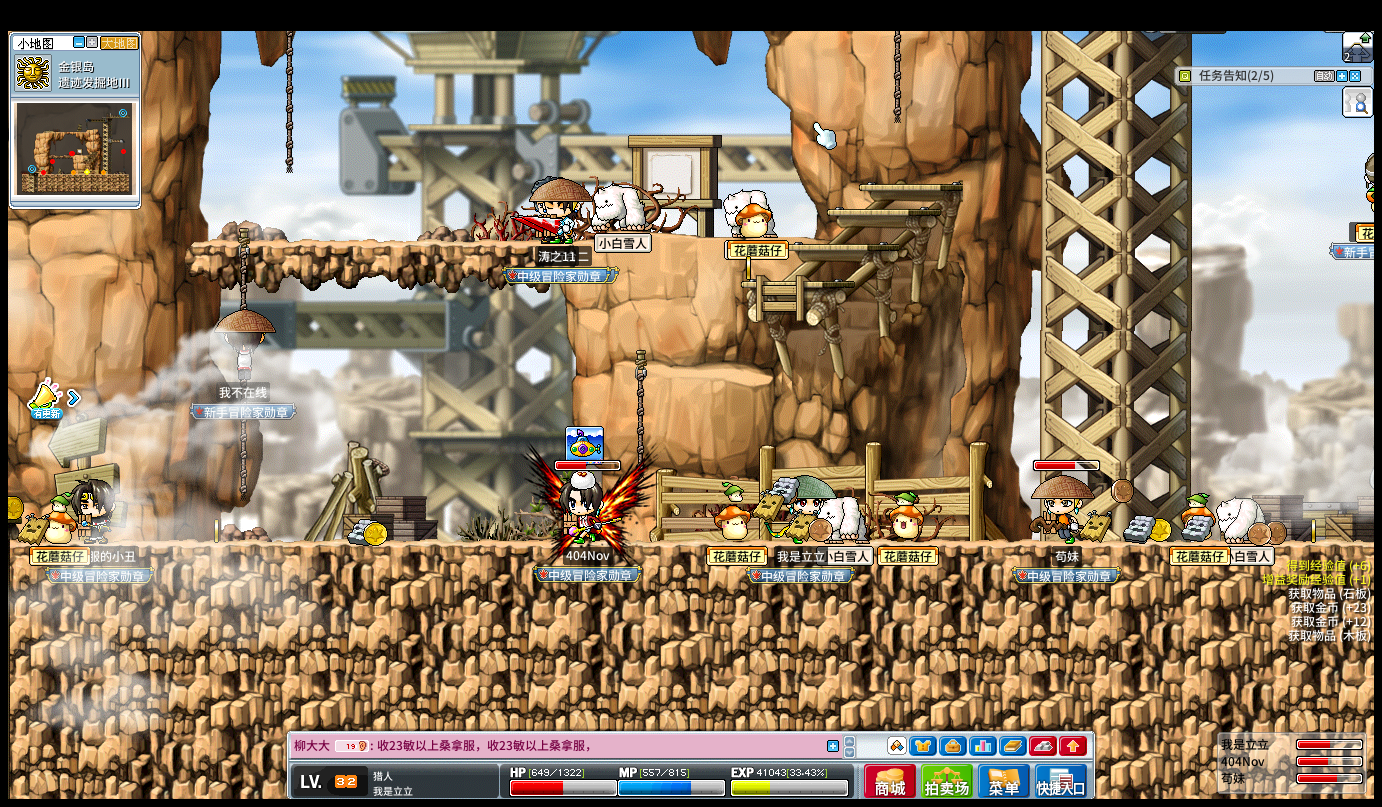floor: (187, 239, 558, 249), (662, 364, 775, 385), (680, 233, 821, 241), (738, 280, 854, 288), (824, 207, 939, 215), (786, 242, 896, 250), (858, 184, 960, 191)
rope: (633, 350, 646, 479), (284, 31, 293, 172), (233, 224, 247, 311), (889, 30, 901, 121), (238, 421, 250, 504)
